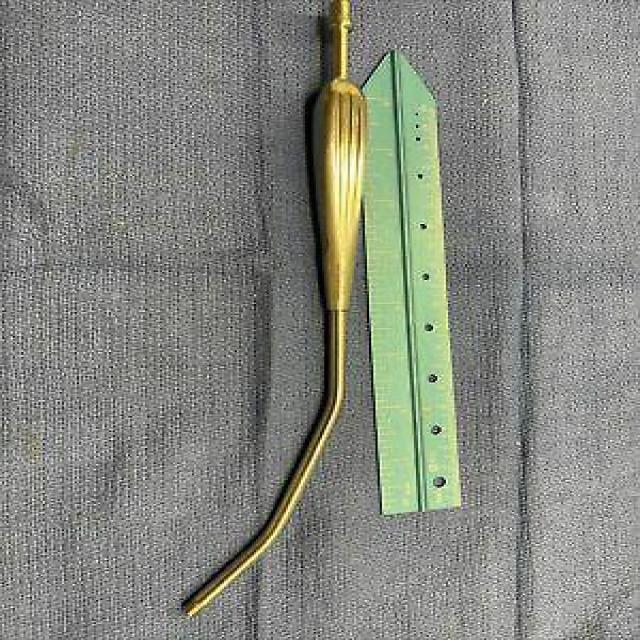Yankauer: (174, 0, 375, 623)
